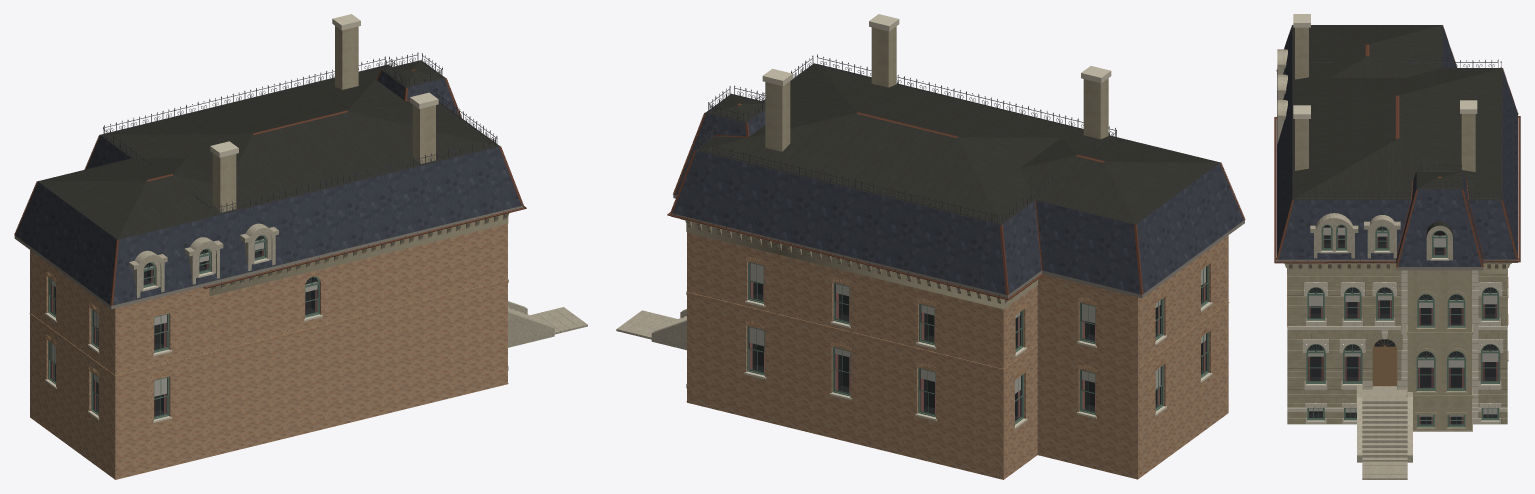
File: armour_house_2115_prairie__as_mapped_1904.glb
The picture shows the model from 3 angles, left to right: view 1: azimuth 30°, elevation 25°; view 2: azimuth 150°, elevation 25°; view 3: azimuth 270°, elevation 25°; orthographic projection. The views are drawn at different scales.
Visible parts, largest first — view 1: armour_house_2115_prairie__as_mapped_1904; view 2: armour_house_2115_prairie__as_mapped_1904; view 3: armour_house_2115_prairie__as_mapped_1904.
Part boxes in pixels (x1,y1,x2,y2): armour_house_2115_prairie__as_mapped_1904: [14, 14, 587, 479]; armour_house_2115_prairie__as_mapped_1904: [616, 14, 1245, 479]; armour_house_2115_prairie__as_mapped_1904: [1274, 14, 1520, 479].
Size of the model in its own units: 32.44 by 18.4 by 14.13.
Materials: 26 (15 with a texture image).
